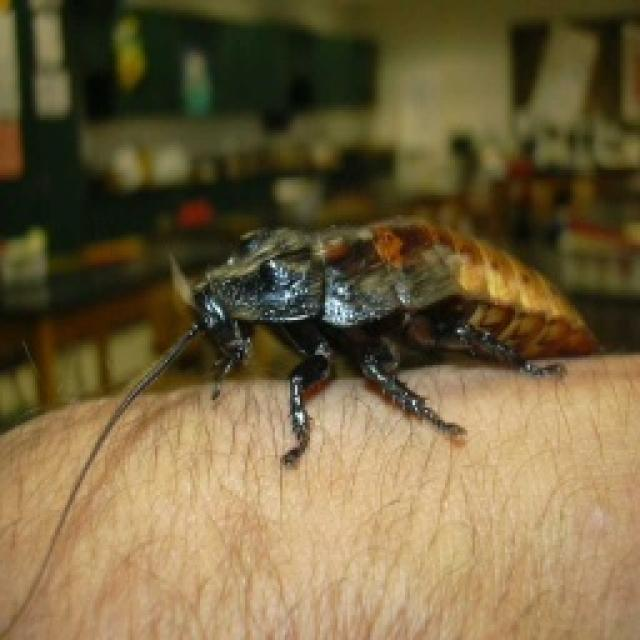cockroach: (194, 214, 602, 364)
